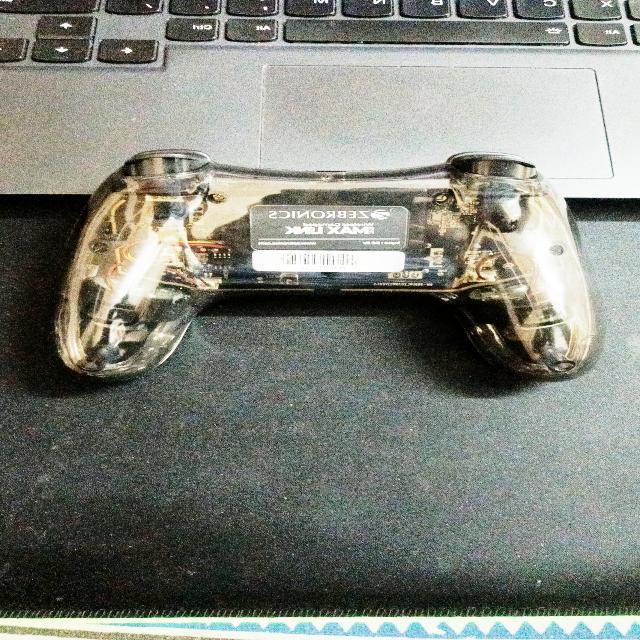gamepad: (52, 148, 598, 383)
